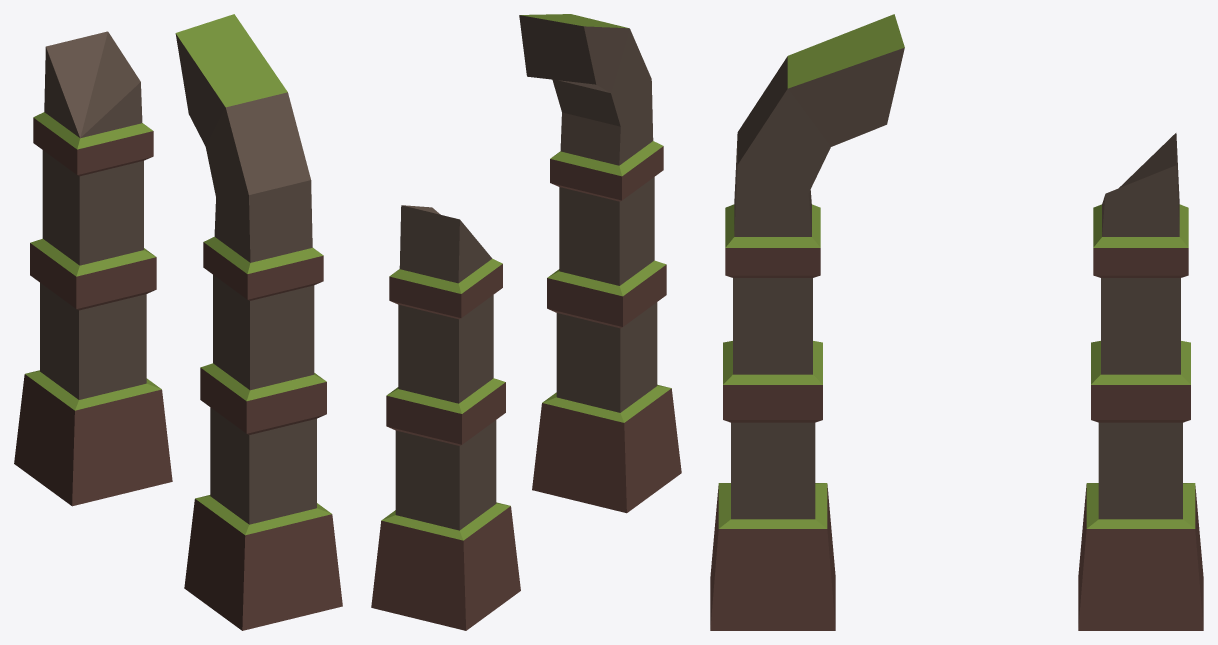
File: RuinGate-B02.fbx
3 renders of one model, left to right at view 1: azimuth 30°, elevation 25°; view 2: azimuth 150°, elevation 25°; view 3: azimuth 270°, elevation 25°, orthographic. The views are drawn at different scales.
Parts seen in each view (by area): view 1: RuinGate-B02; view 2: RuinGate-B02; view 3: RuinGate-B02.
Part boxes in pixels (bbox=[...]): RuinGate-B02: bbox=[14, 14, 342, 630]; RuinGate-B02: bbox=[371, 14, 681, 630]; RuinGate-B02: bbox=[710, 14, 1203, 630].
Bounding box in the file's own units: 526 × 675 × 134.
